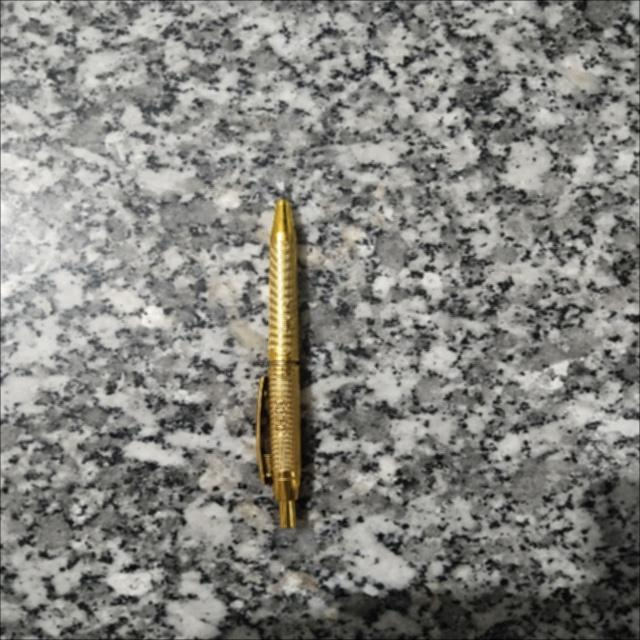signature pen: (256, 199, 300, 527)
